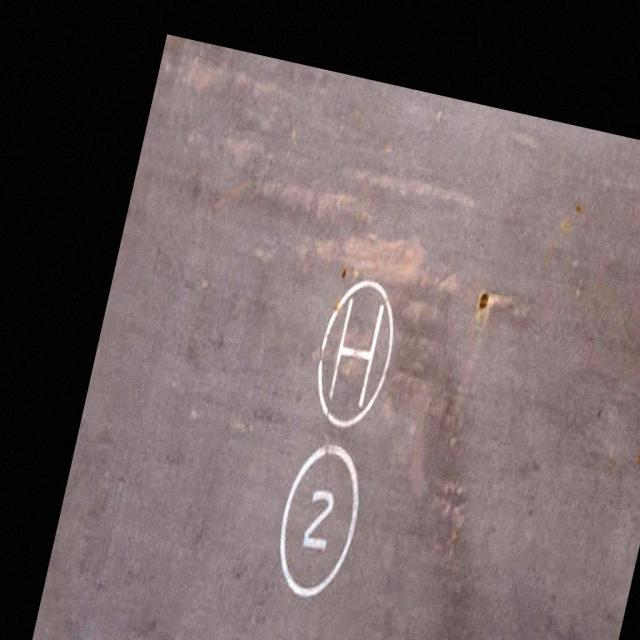helipad: (314, 274, 395, 429)
